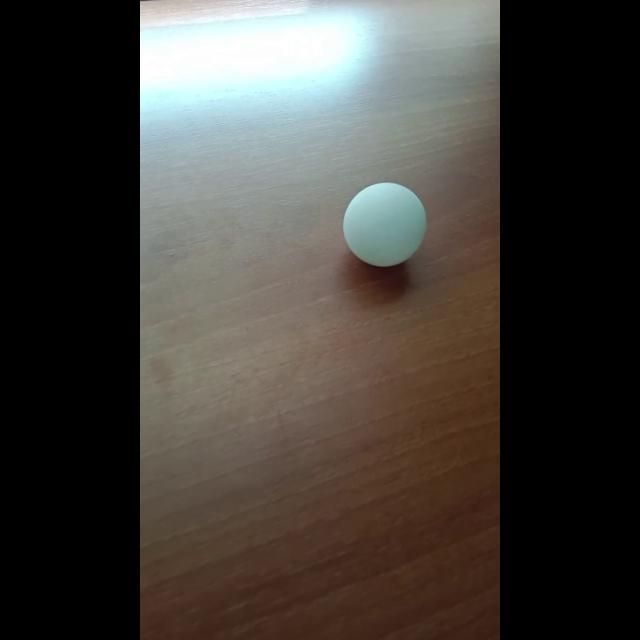white ball: (342, 181, 426, 267)
